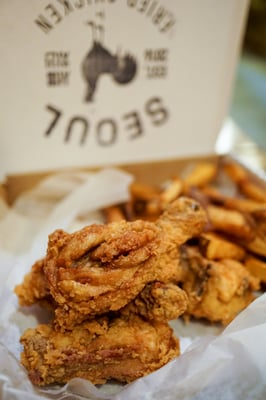soup: (15, 192, 263, 392)
